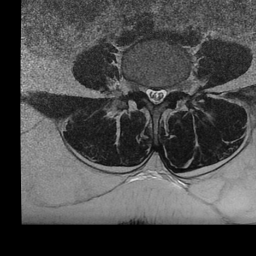CCS_normal: (153, 79, 159, 111)
LFS_normal: (166, 77, 175, 100)
LLS_normal: (159, 80, 167, 106)
RFS_stenosis: (137, 74, 145, 100)
RLS_stenosis: (145, 79, 153, 106)
